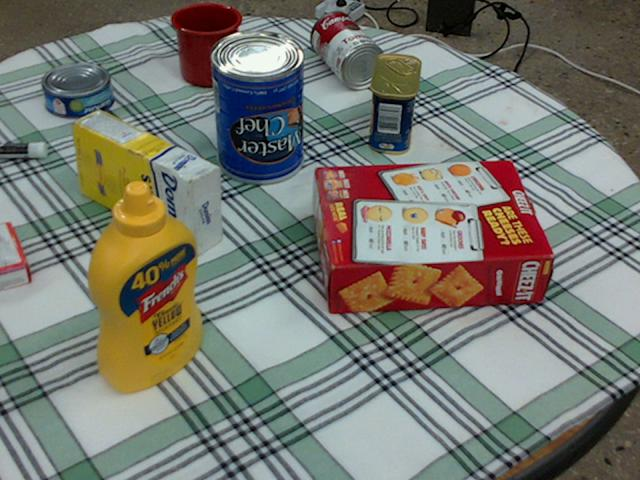cracker_box: (314, 160, 553, 314)
gelatin_box: (0, 221, 31, 289)
large_marker: (0, 141, 46, 157)
master_chef_can: (209, 30, 302, 183)
mug: (172, 2, 243, 85)
mustard_bottle: (86, 180, 201, 389)
potted_meat_can: (368, 53, 419, 154)
sugar_box: (71, 109, 220, 255)
tomato_soup_can: (311, 11, 384, 87)
tuna_fish_can: (42, 62, 113, 117)
